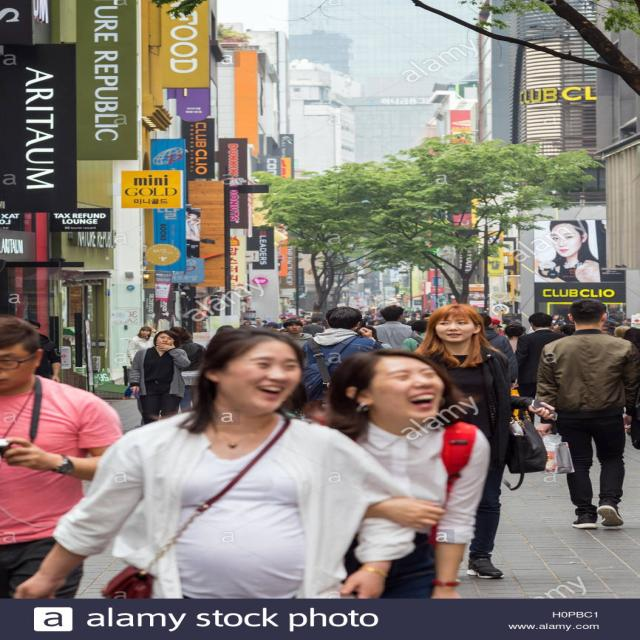body: (9, 322, 420, 599), (317, 348, 493, 600), (404, 303, 559, 580), (0, 314, 126, 597), (530, 297, 640, 529), (299, 306, 386, 403), (512, 312, 571, 426), (125, 329, 192, 427), (200, 304, 324, 344), (536, 216, 606, 283), (482, 312, 639, 338), (354, 299, 432, 350), (170, 326, 208, 414), (478, 312, 520, 390), (369, 304, 425, 353), (22, 318, 62, 383), (619, 340, 640, 450), (126, 325, 160, 365), (278, 318, 314, 351), (180, 207, 206, 242), (505, 337, 522, 357)
